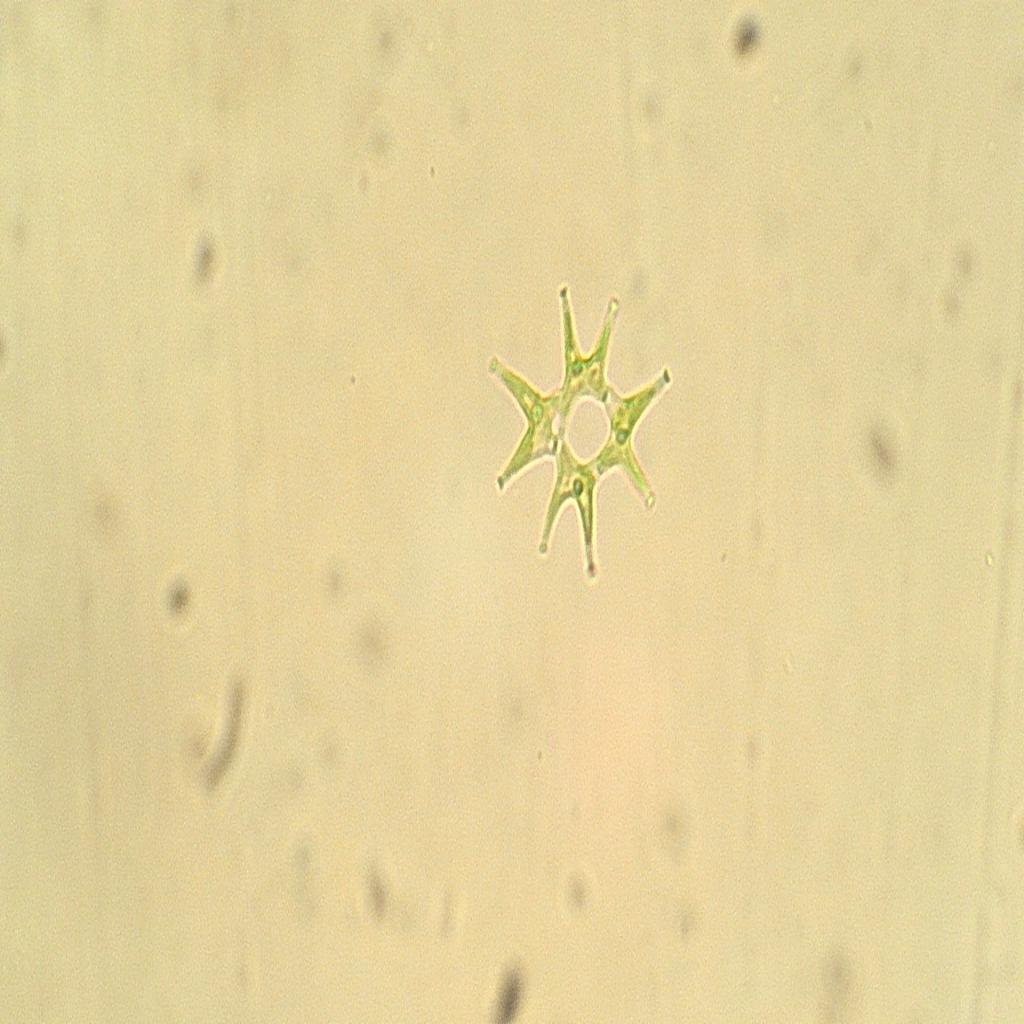Pediastrum_CT: (465, 262, 688, 586)
